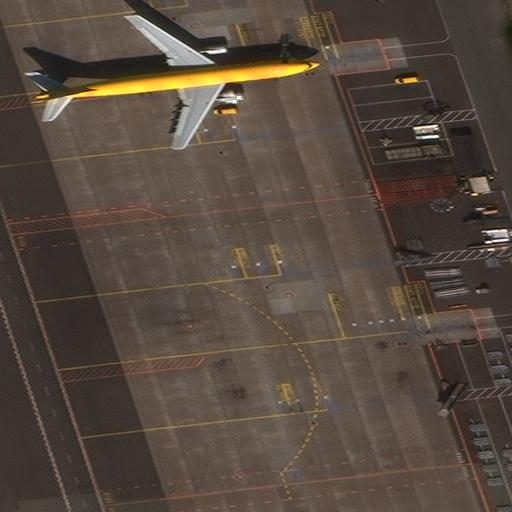Large Civil Transport: (24, 8, 324, 146)
